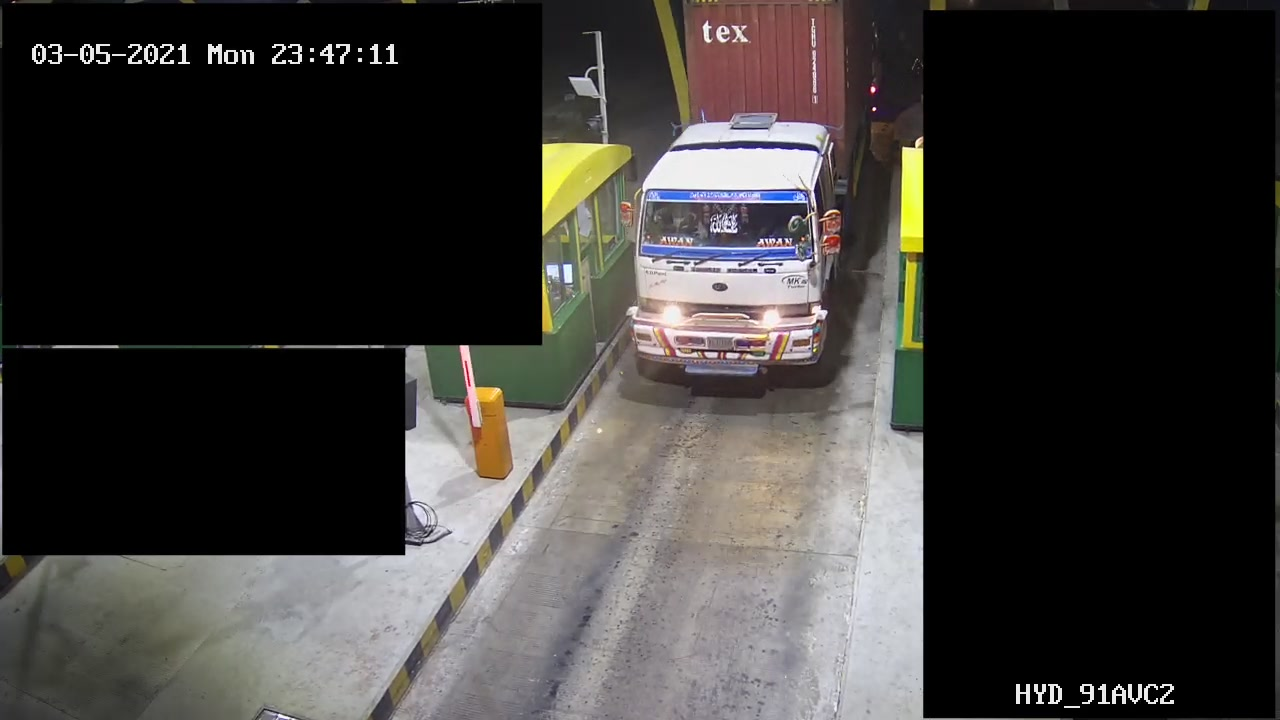F6: (623, 1, 885, 393)
